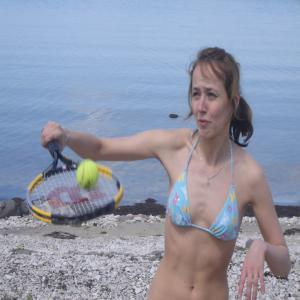TennisBall: (78, 160, 100, 192)
